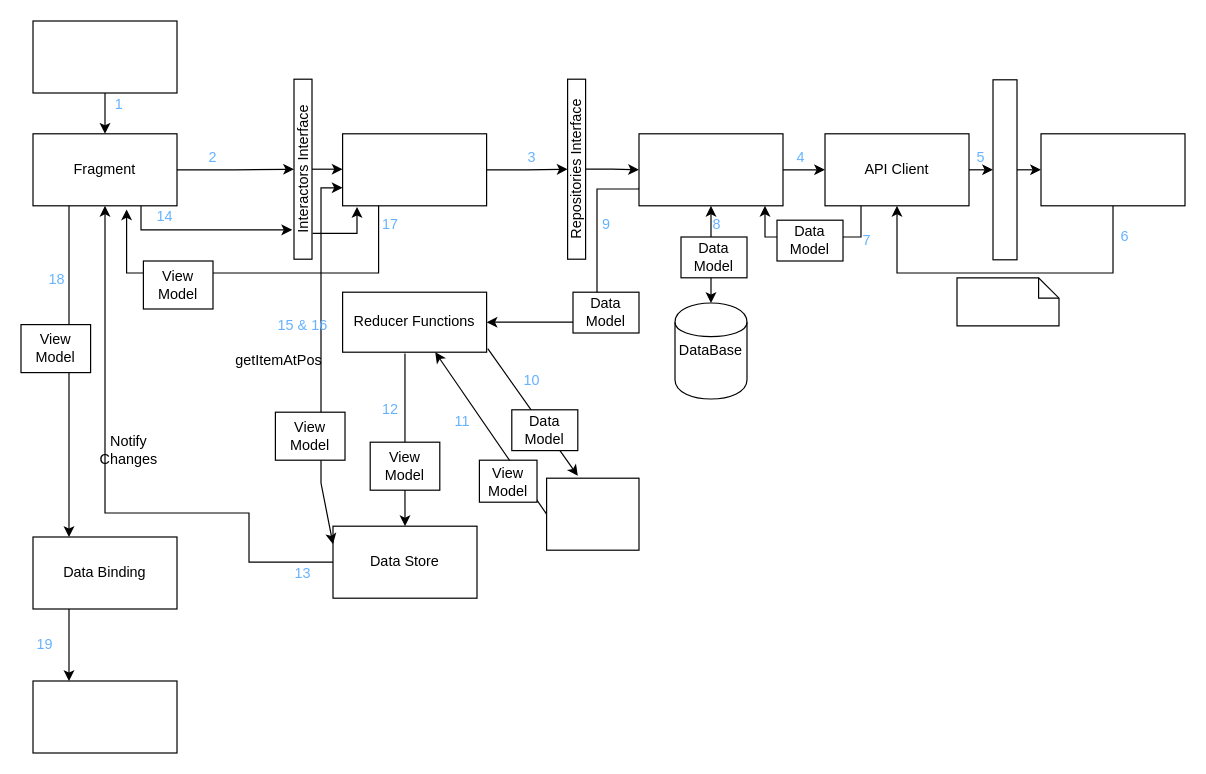
This 1206x774 diagram has some shape labels left out. Here are the shapes that lost their labels. From the top down, the box of each, then its label:
(32, 20, 177, 93): Activity
(341, 133, 487, 206): Interactor
(638, 133, 783, 206): Repository
(992, 79, 1017, 260): Retrofit Interface
(1040, 133, 1185, 206): API Server
(956, 277, 1059, 326): Response
(545, 477, 639, 550): Converter
(32, 680, 177, 753): UI
